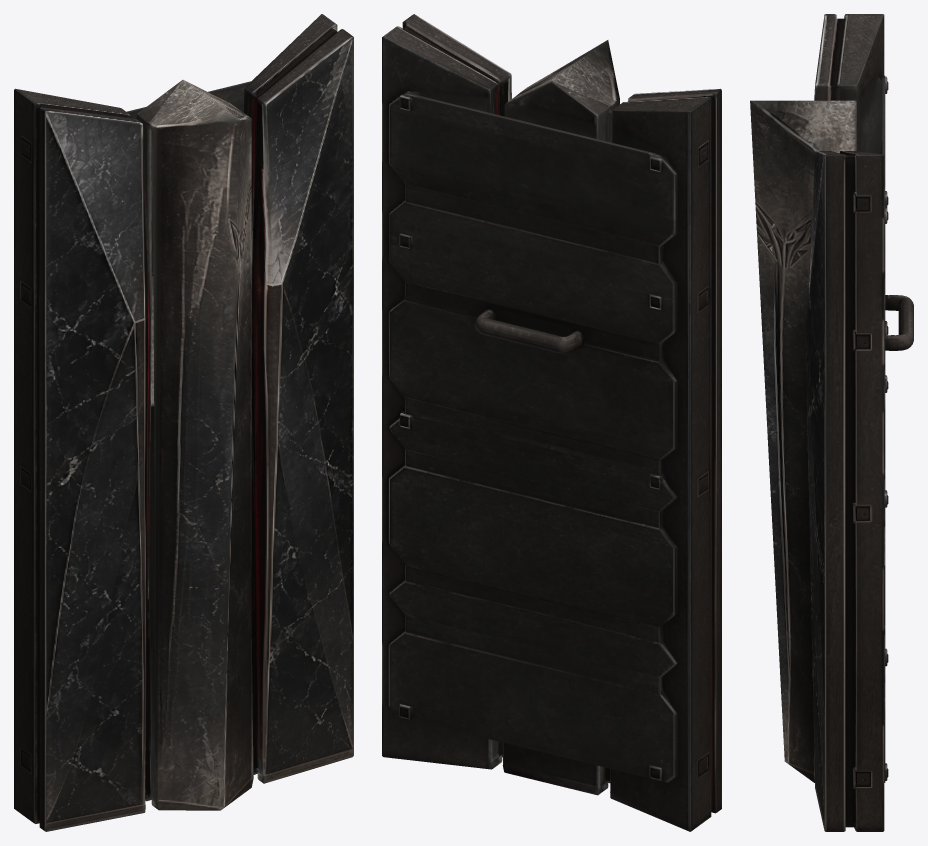
Rendered from zereca-wall-panel.glb.
The picture shows the model from 3 angles, left to right: view 1: azimuth 30°, elevation 25°; view 2: azimuth 150°, elevation 25°; view 3: azimuth 270°, elevation 25°; orthographic projection. The views are drawn at different scales.
Parts seen in each view (by area): view 1: Branded wall panel; view 2: Branded wall panel; view 3: Branded wall panel.
Part boxes in pixels (left/top/right/bottom): Branded wall panel: left=14, top=14, right=353, bottom=831; Branded wall panel: left=382, top=14, right=721, bottom=831; Branded wall panel: left=750, top=14, right=913, bottom=831.
Bounding box in the file's own units: 0.4489 × 1 × 0.2193.
Materials: 1 (1 with a texture image).
